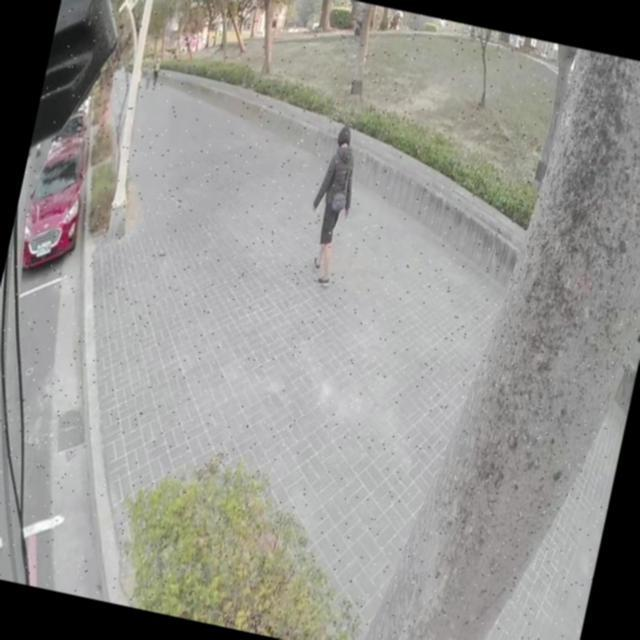person: (298, 124, 367, 285), (152, 55, 164, 82), (144, 56, 156, 82)
